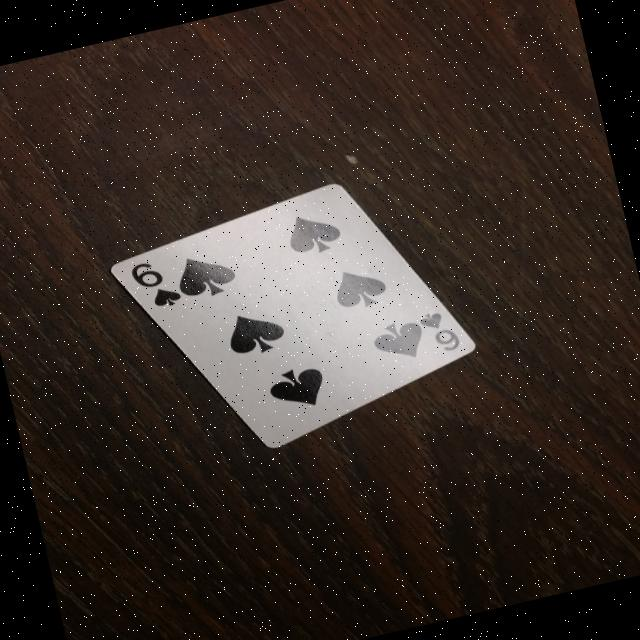6s: (122, 249, 189, 324), (409, 302, 466, 361)
